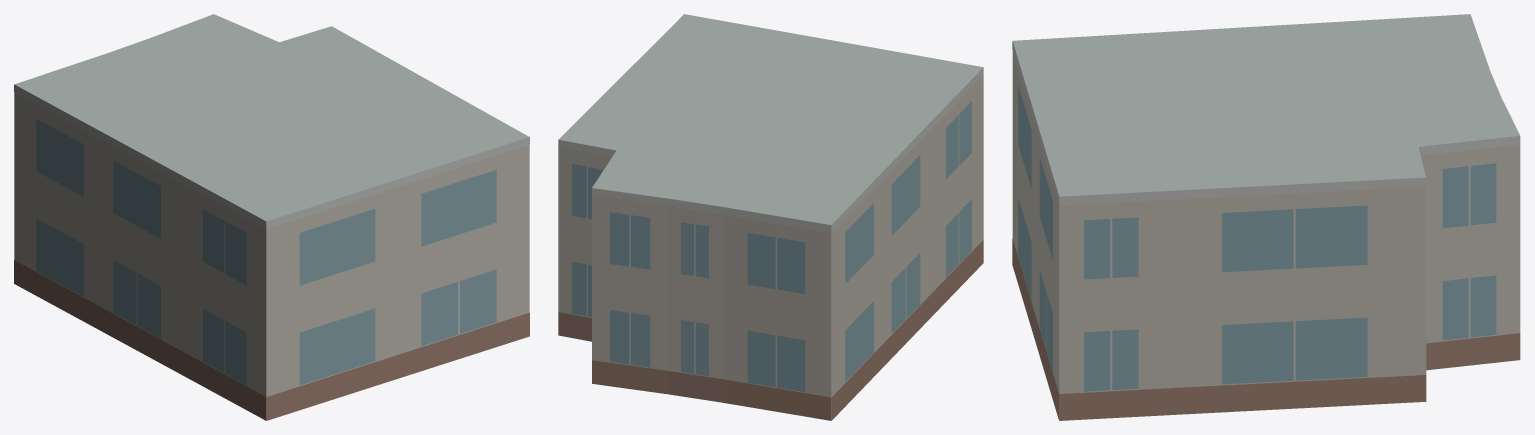
The model's file is survey-upis-32460748.glb.
3 renders of one model, left to right at view 1: azimuth 30°, elevation 25°; view 2: azimuth 150°, elevation 25°; view 3: azimuth 270°, elevation 25°, orthographic. The views are drawn at different scales.
Parts seen in each view (by area): view 1: survey-upis-32460748.tmp; view 2: survey-upis-32460748.tmp; view 3: survey-upis-32460748.tmp.
Boxes of the visible parts, box(x1,y1,x2,y2) form: survey-upis-32460748.tmp: box(14, 14, 529, 420); survey-upis-32460748.tmp: box(558, 14, 983, 420); survey-upis-32460748.tmp: box(1012, 14, 1520, 420).
Size of the model in its own units: 10.67 by 6.1 by 12.53.
